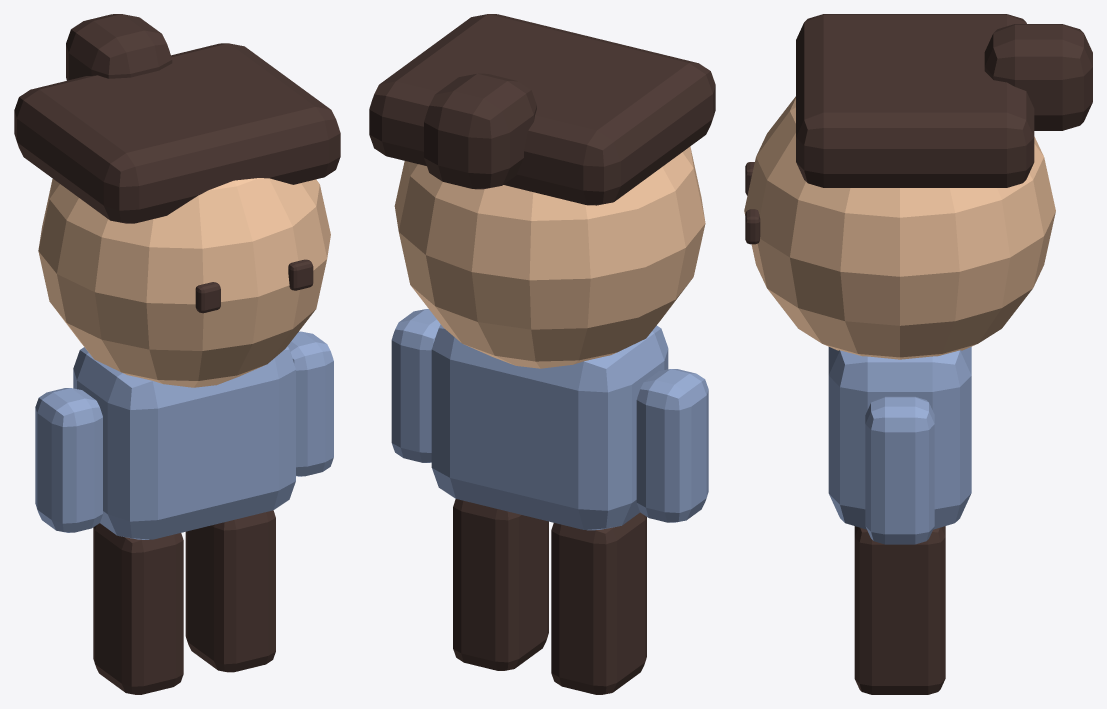
Rendered from kar_warga_ani.fbx.
3 renders of one model, left to right at view 1: azimuth 30°, elevation 25°; view 2: azimuth 150°, elevation 25°; view 3: azimuth 270°, elevation 25°, orthographic. The views are drawn at different scales.
Parts seen in each view (by area): view 1: kar_warga_ani; view 2: kar_warga_ani; view 3: kar_warga_ani.
Part boxes in pixels (box(x1,y1,x2,y2)): kar_warga_ani: box(14, 14, 340, 694); kar_warga_ani: box(369, 14, 715, 694); kar_warga_ani: box(744, 14, 1092, 694).
Bounding box in the file's own units: 79 × 160 × 80.5.
Materials: 1 (1 with a texture image).
